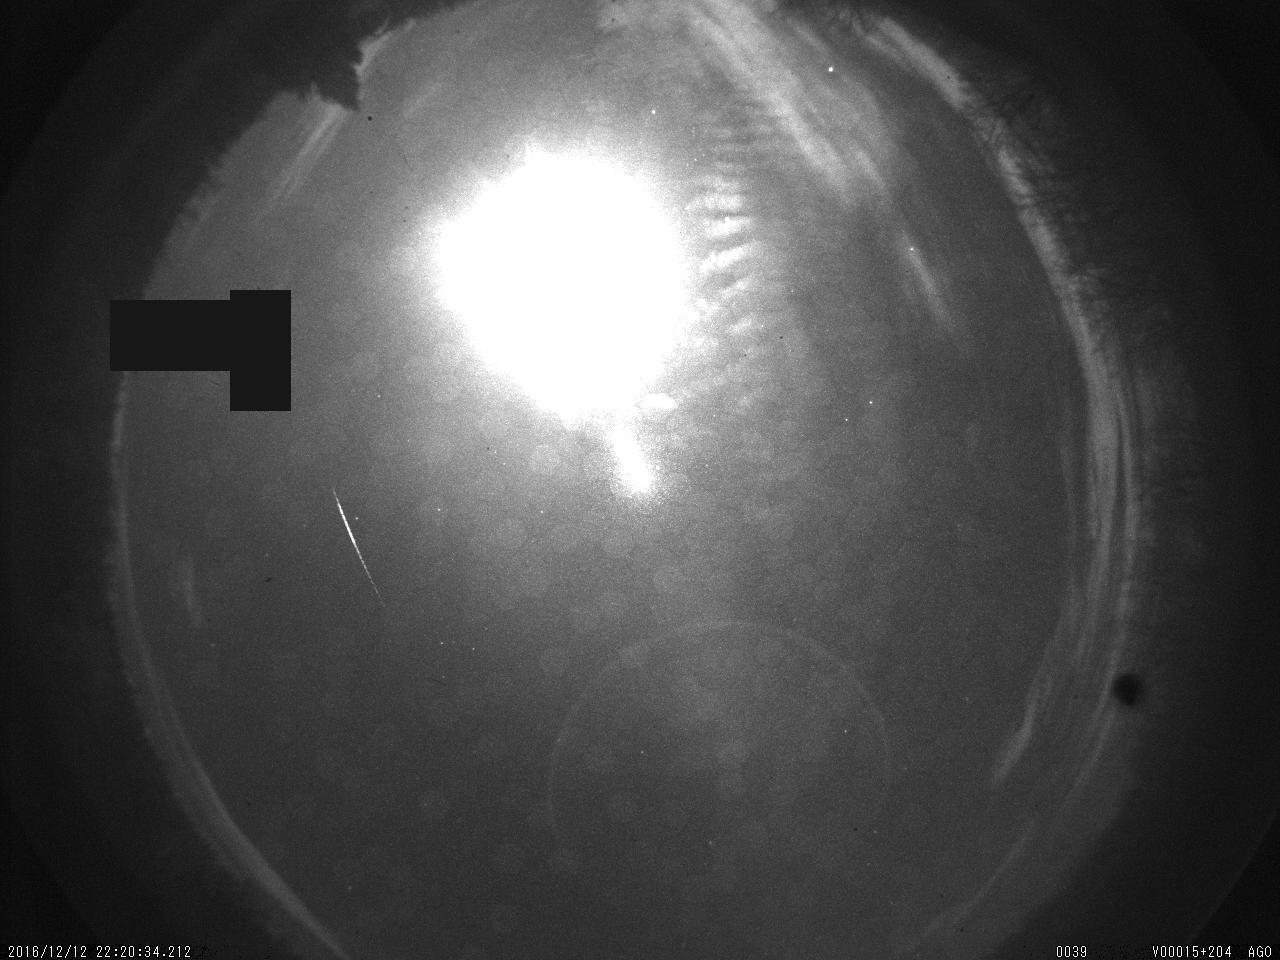Meteor: (330, 483, 388, 613)
